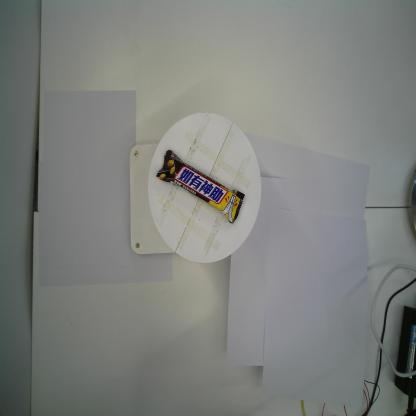Chocolate: (155, 148, 245, 225)
